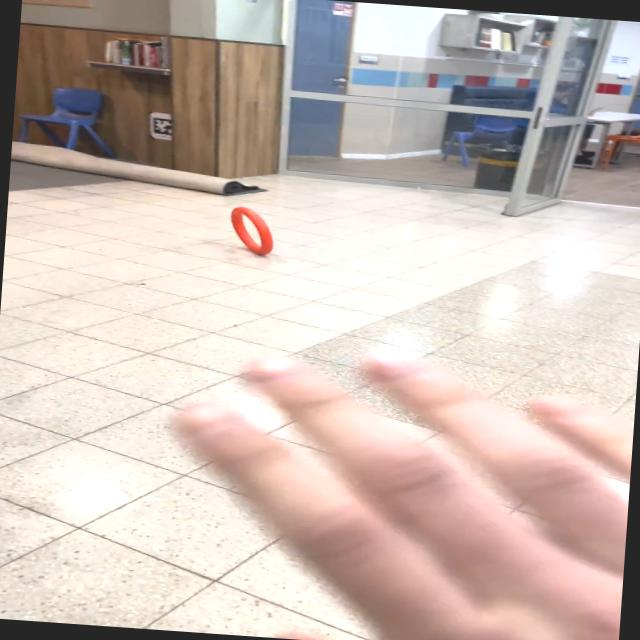note: (224, 203, 278, 258)
